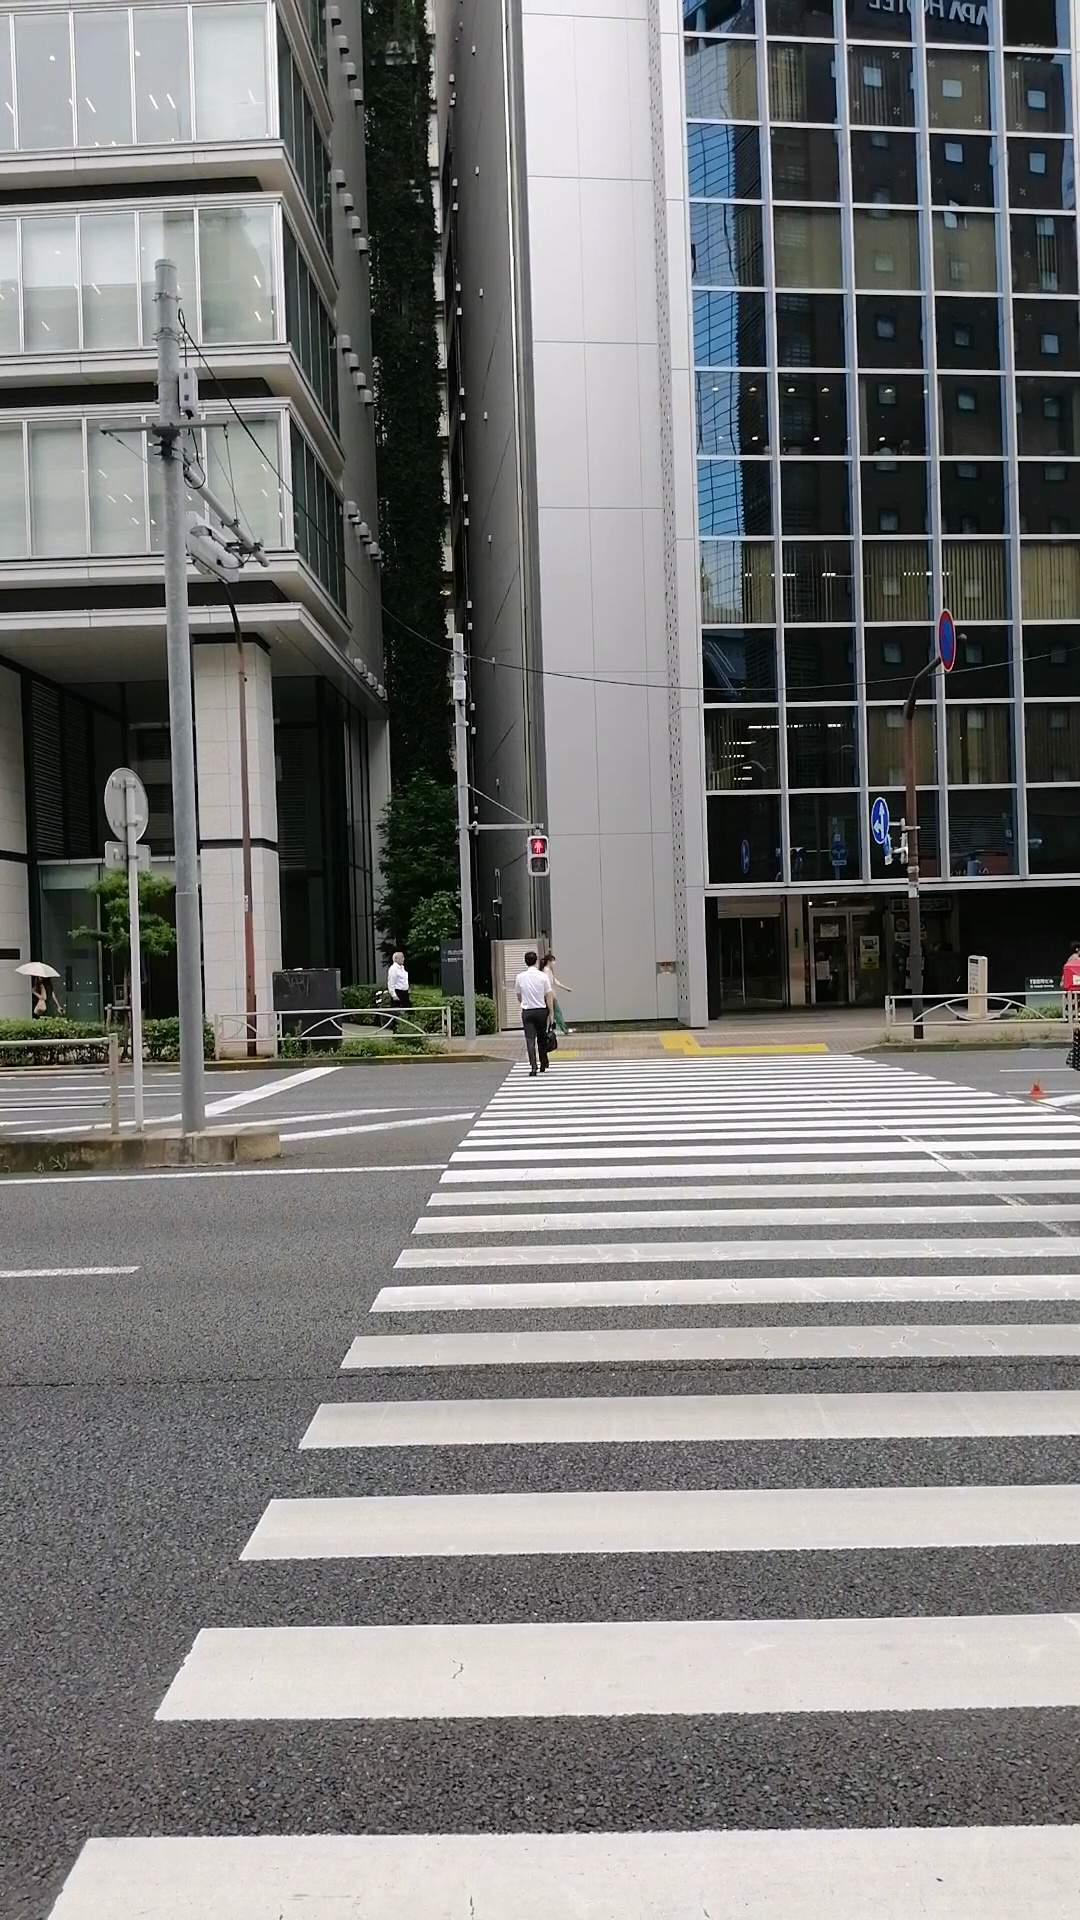red: (525, 833, 549, 876)
